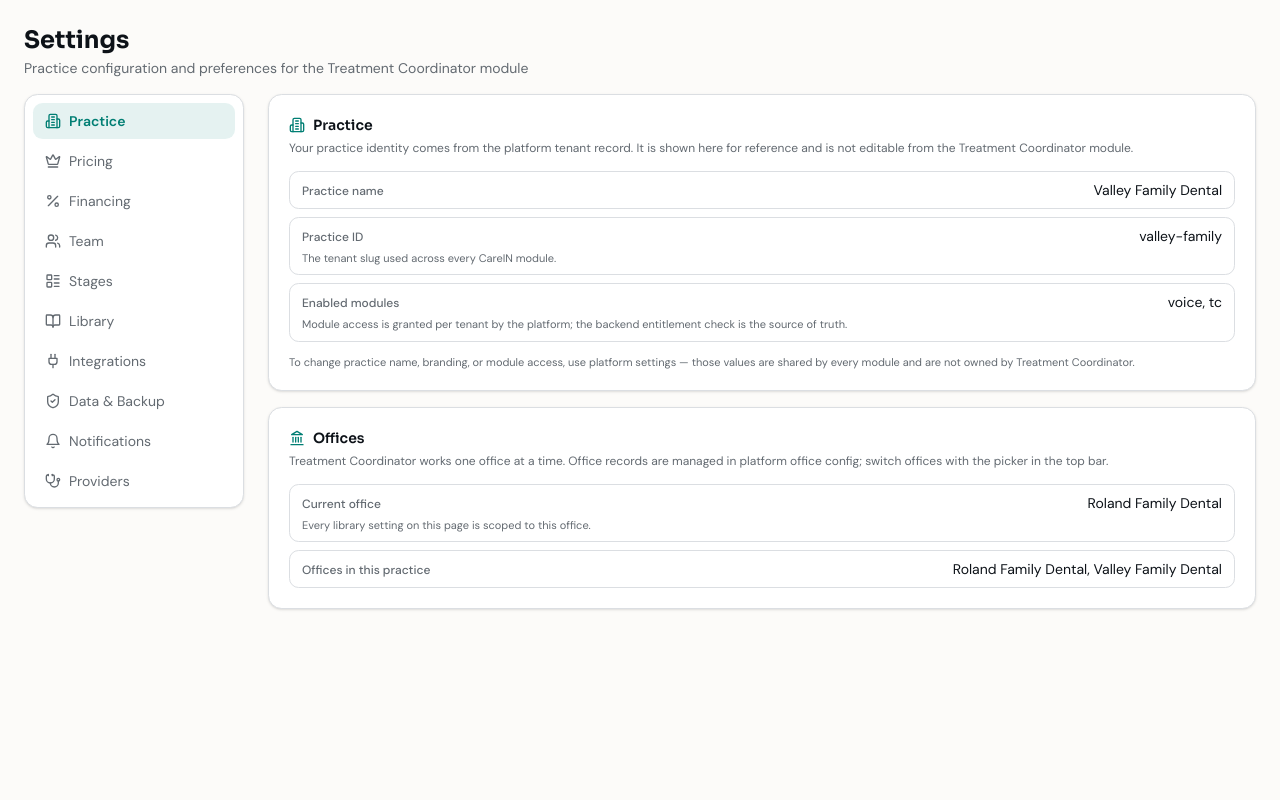
Test: TcSettings shell › switches content and updates the hash when a section is clicked
This screenshot has width=1280, height=800.
Expected: the element "Practice" is shown, [268,94,1256,609]
Click the button "Pricing" at (134, 161), box [33,143,235,179]
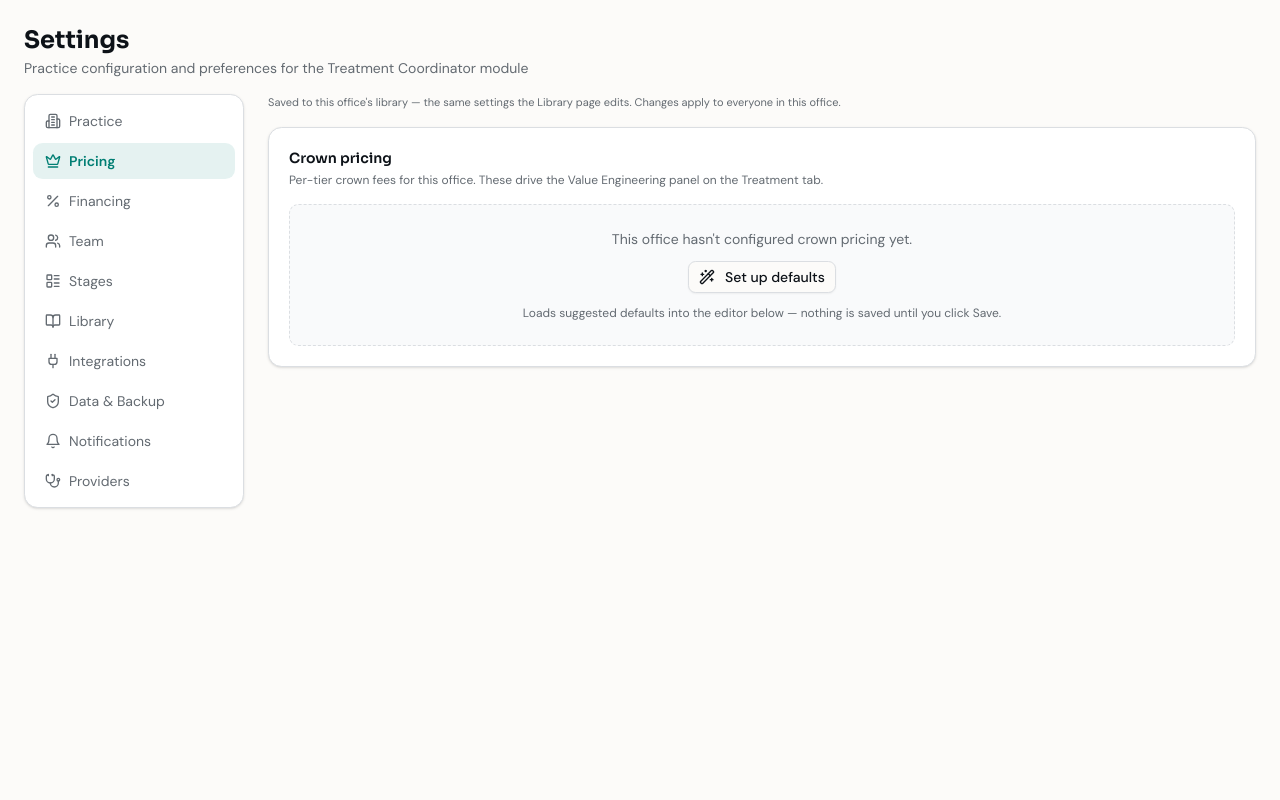
Expected: the element named "Pricing" is shown, [268,94,1256,366]
Click the button "Integrations" at (134, 361), box [33,343,235,379]
(page scrolled)
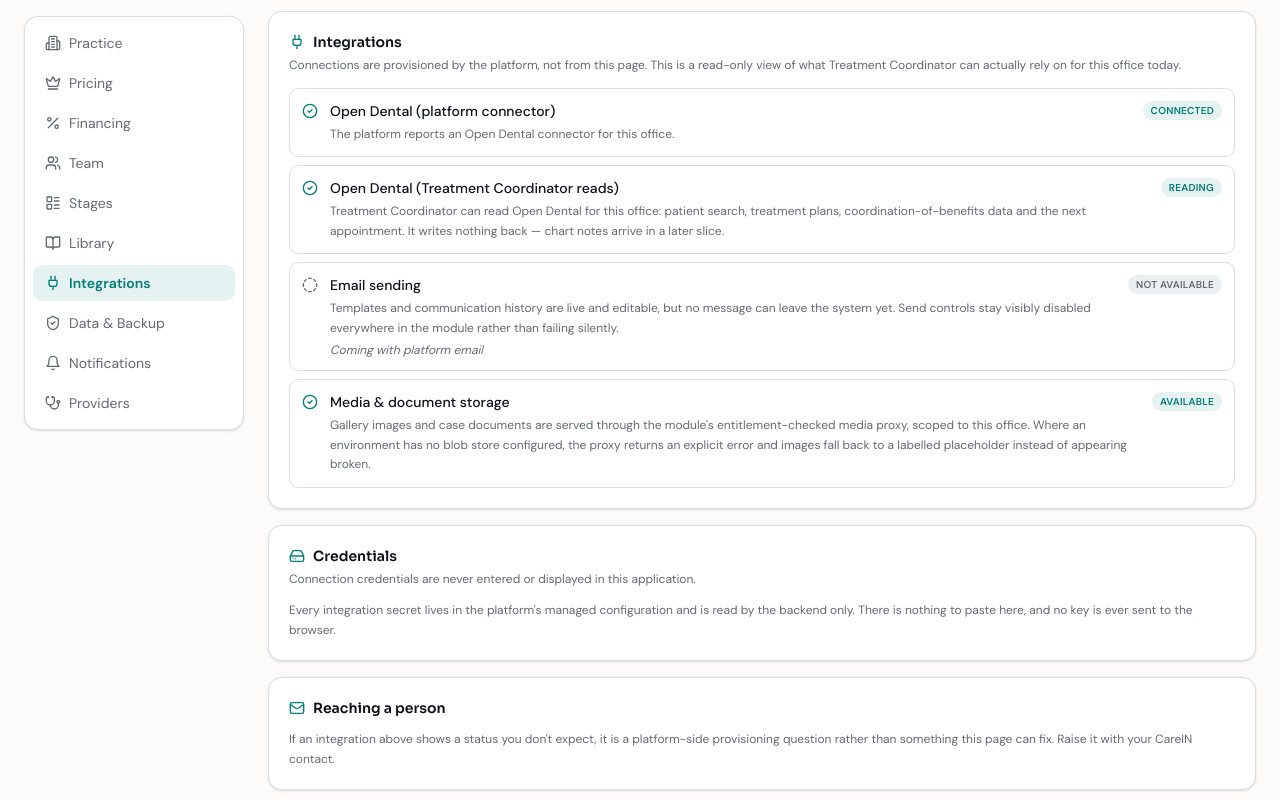
Expected: the element "Integrations" is shown
